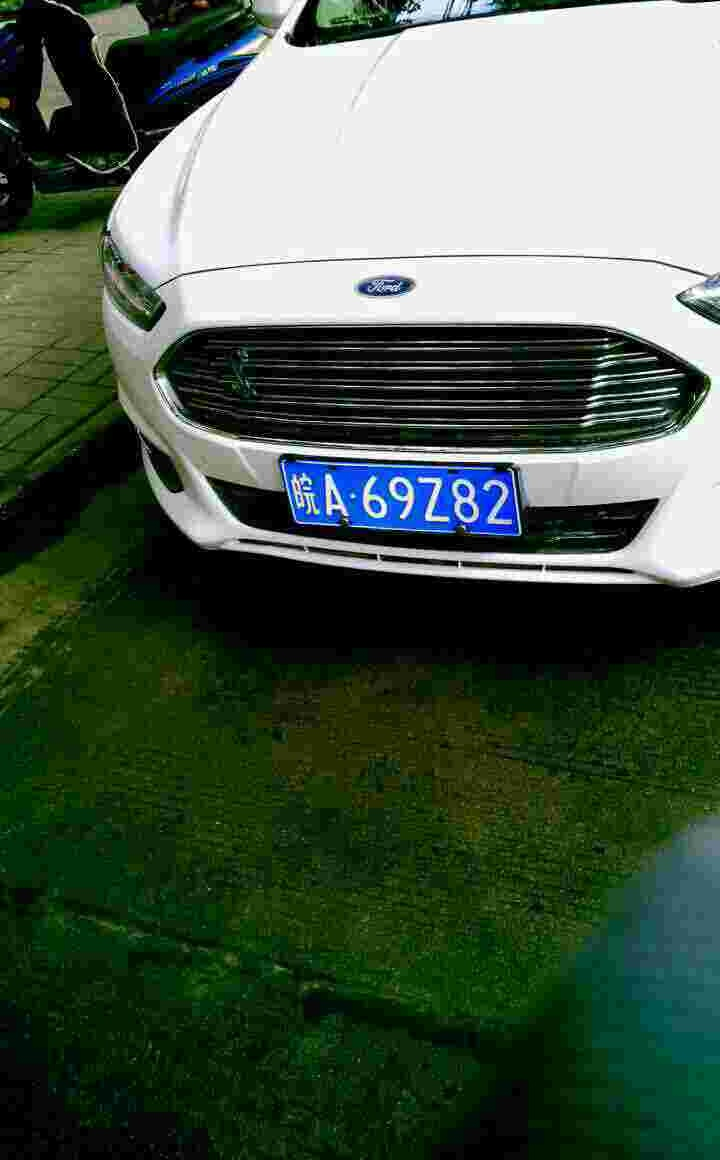car: (284, 448, 536, 535)
